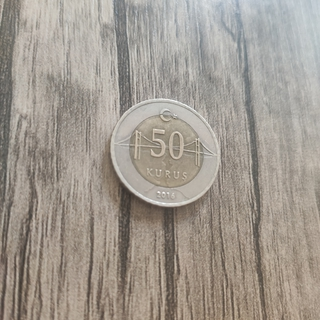50KURUS: (106, 95, 221, 209)
